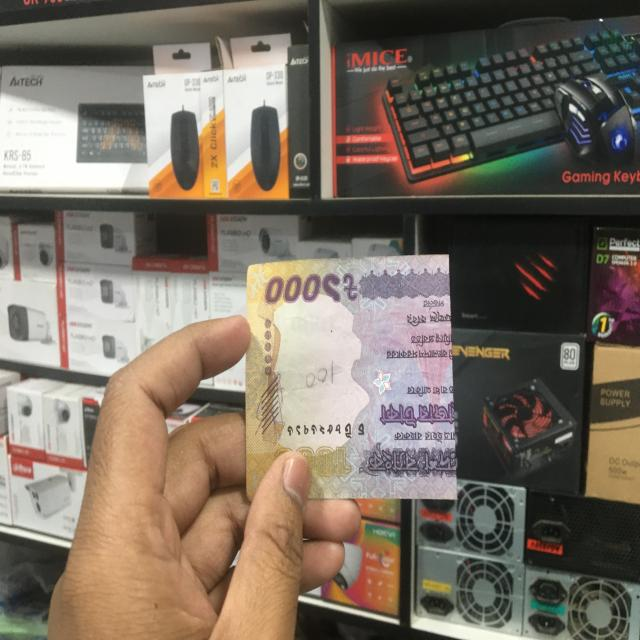Taka: (247, 257, 458, 507)
